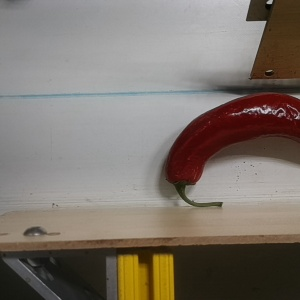Cut Point: (163, 165, 203, 194)
